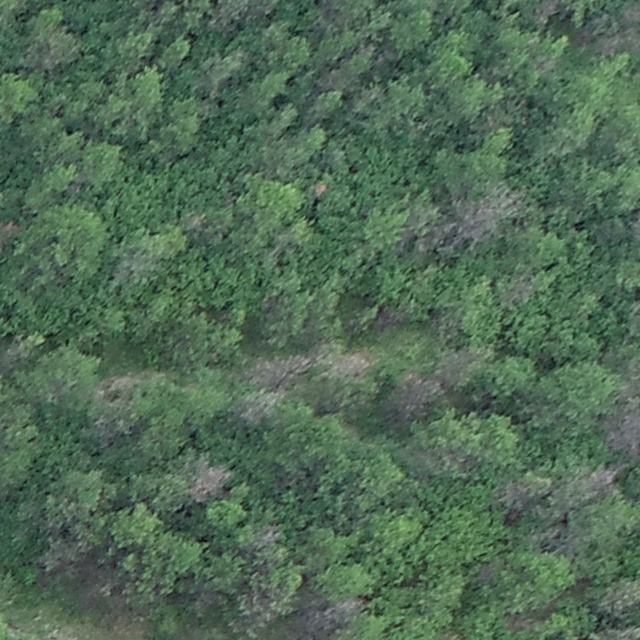unhealthy: (446, 185, 522, 249), (80, 372, 144, 442), (241, 350, 313, 394), (386, 370, 442, 421), (292, 600, 359, 638), (601, 401, 639, 458), (234, 387, 285, 429), (496, 474, 544, 517), (434, 345, 481, 383), (578, 461, 625, 498), (598, 575, 640, 616), (189, 460, 231, 500), (328, 348, 376, 379), (500, 272, 538, 307), (373, 301, 410, 331), (249, 523, 282, 551), (471, 558, 503, 585), (0, 216, 20, 258), (595, 31, 624, 57), (530, 0, 561, 24)
